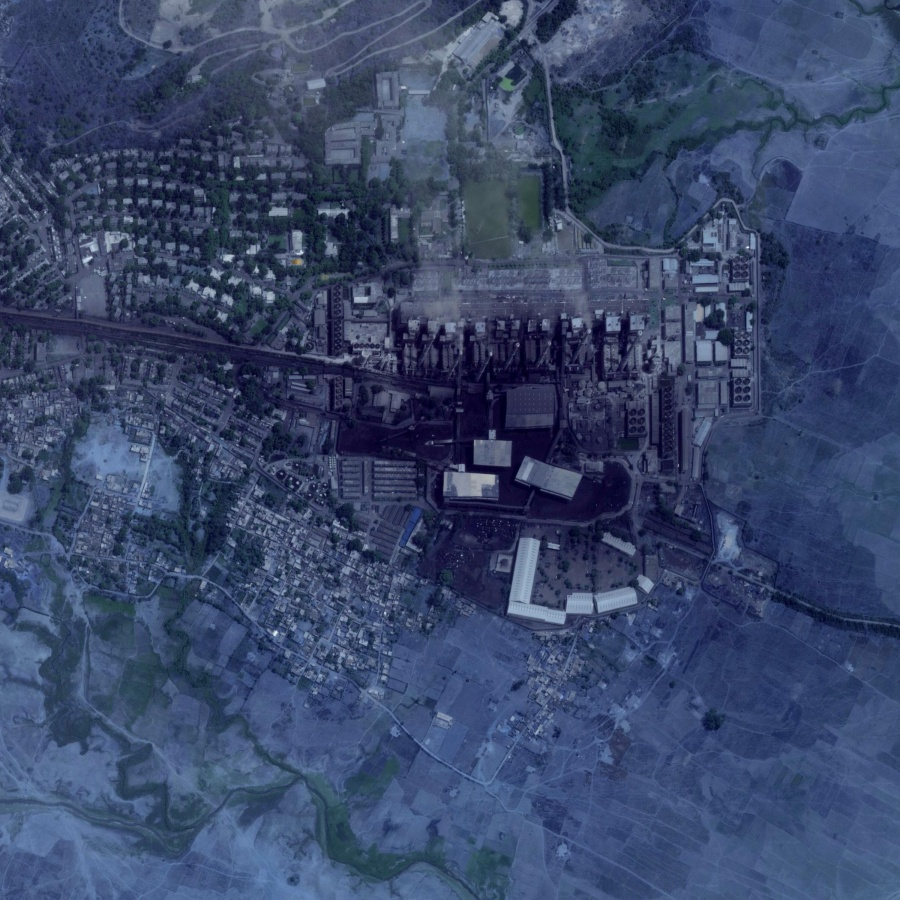PowerPlant: (338, 180, 761, 530)
